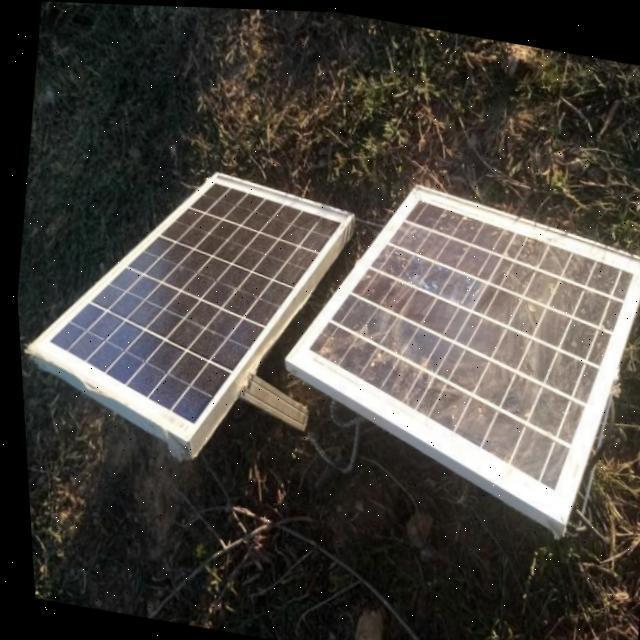Normal Solar Panel: (7, 141, 360, 467)
